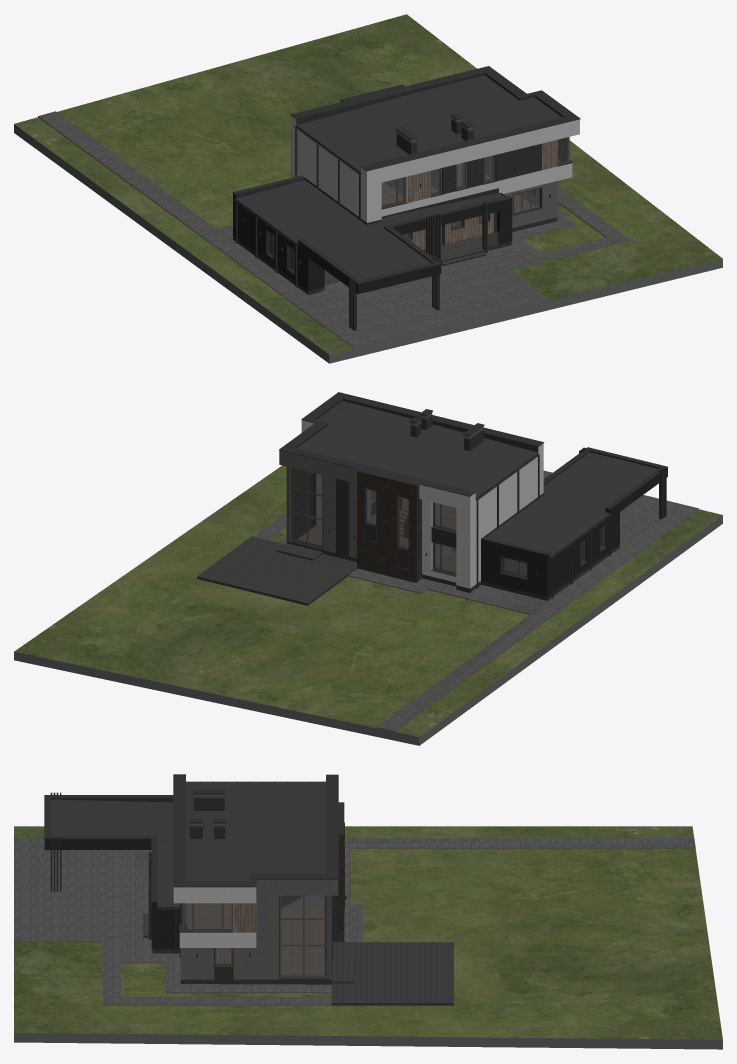
3 views of the same model, one above another, from view 1: azimuth 30°, elevation 25°; view 2: azimuth 150°, elevation 25°; view 3: azimuth 270°, elevation 25° (orthographic). The views are drawn at different scales.
Visible parts, largest first — view 1: object 10, object 20, object 6, object 22, object 28, Grey Rubber, object 16, object 27, object 1, object 19, object 29, object 4 (+2 smaller); view 2: object 10, object 20, object 22, object 6, Flooring_Tiles_Roca_PIEMONTE-MOSAICO-PIEMONTE-MARFIL-25X45 (, object 28, object 16, object 27, object 24, object 19, Grey Rubber, object 29 (+4 smaller); view 3: object 10, object 6, object 20, object 22, Grey Rubber, Flooring_Tiles_Roca_PIEMONTE-MOSAICO-PIEMONTE-MARFIL-25X45 (, object 29, object 27, object 3, object 28, object 16, object 4 (+3 smaller).
Part boxes in pixels (x1,y1,x2,y2): object 10: (14, 14, 722, 354); object 20: (236, 75, 561, 280); object 6: (38, 111, 629, 347); object 22: (232, 66, 580, 330); object 28: (290, 115, 579, 222); Grey Rubber: (14, 116, 722, 363); object 16: (233, 193, 512, 294); object 27: (269, 137, 567, 270); object 1: (407, 139, 557, 249); object 19: (354, 300, 550, 355); object 29: (503, 181, 557, 227); object 4: (268, 137, 569, 285); object 10: (14, 465, 722, 737); object 20: (297, 401, 657, 557); object 22: (279, 392, 667, 598); object 6: (253, 470, 698, 730); Flooring_Tiles_Roca_PIEMONTE-MOSAICO-PIEMONTE-MARFIL-25X45 (: (197, 536, 356, 605); object 28: (301, 420, 543, 588); object 16: (481, 467, 667, 596); object 27: (292, 468, 604, 576); object 24: (357, 472, 421, 578); object 19: (14, 651, 419, 745); Grey Rubber: (267, 509, 722, 745); object 29: (279, 450, 358, 558); object 10: (14, 826, 722, 1039); object 6: (14, 838, 695, 1004); object 20: (50, 781, 325, 907); object 22: (44, 774, 344, 979); Grey Rubber: (14, 847, 722, 1049); Flooring_Tiles_Roca_PIEMONTE-MOSAICO-PIEMONTE-MARFIL-25X45 (: (331, 942, 453, 1005); object 29: (180, 879, 338, 979); object 27: (184, 895, 326, 976); object 3: (187, 896, 324, 975); object 28: (173, 887, 256, 947); object 16: (44, 839, 179, 948); object 4: (182, 895, 331, 979).
Bounding box in the file's own units: 33.08 × 9.59 × 46.4.
29 materials, 12 textured.
